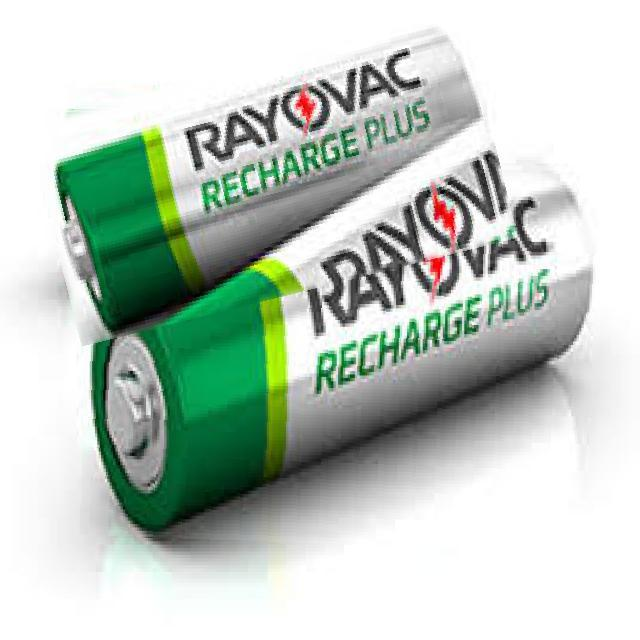Battery: (88, 139, 600, 539), (50, 18, 518, 339)
